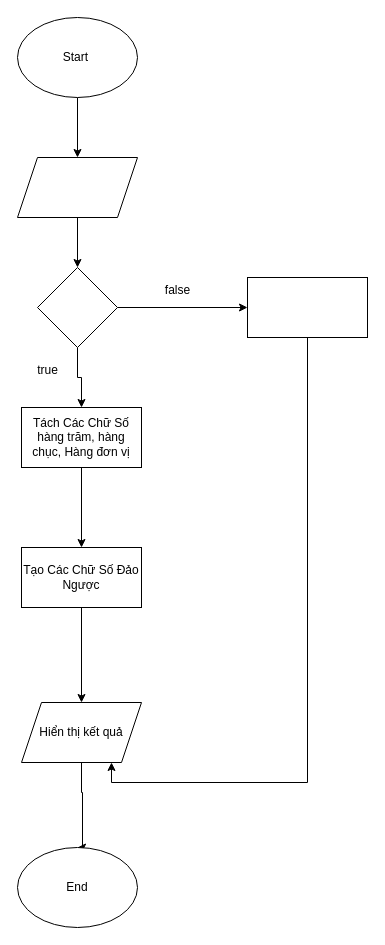
This 385x945 diagram has some shape labels left out. The box of each missing label's shape, as (x1, y1, x2, y2) in pixels:
chữ số không hợp lệ: (246, 276, 368, 338)
Nhập chữ số Có Ba chữ số: (16, 156, 138, 218)
Nếu chữ số là chữ số có ba chữ số: (36, 266, 118, 348)
